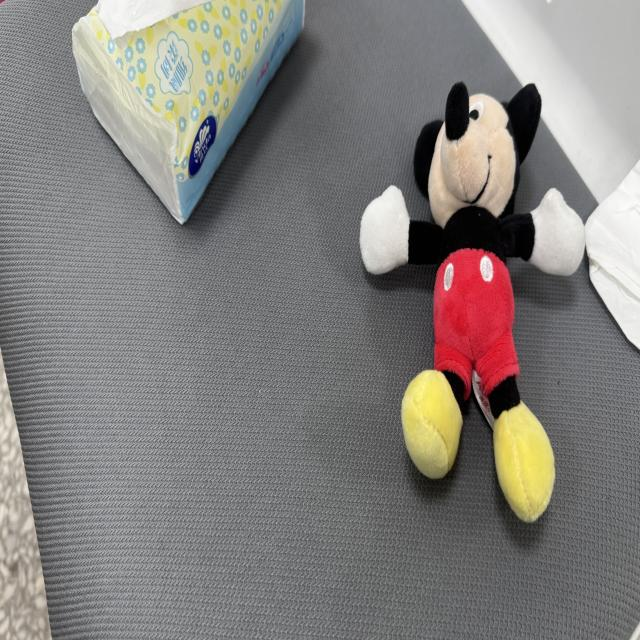mickey: (361, 83, 584, 521)
tissue: (73, 0, 304, 222), (586, 163, 639, 348)
